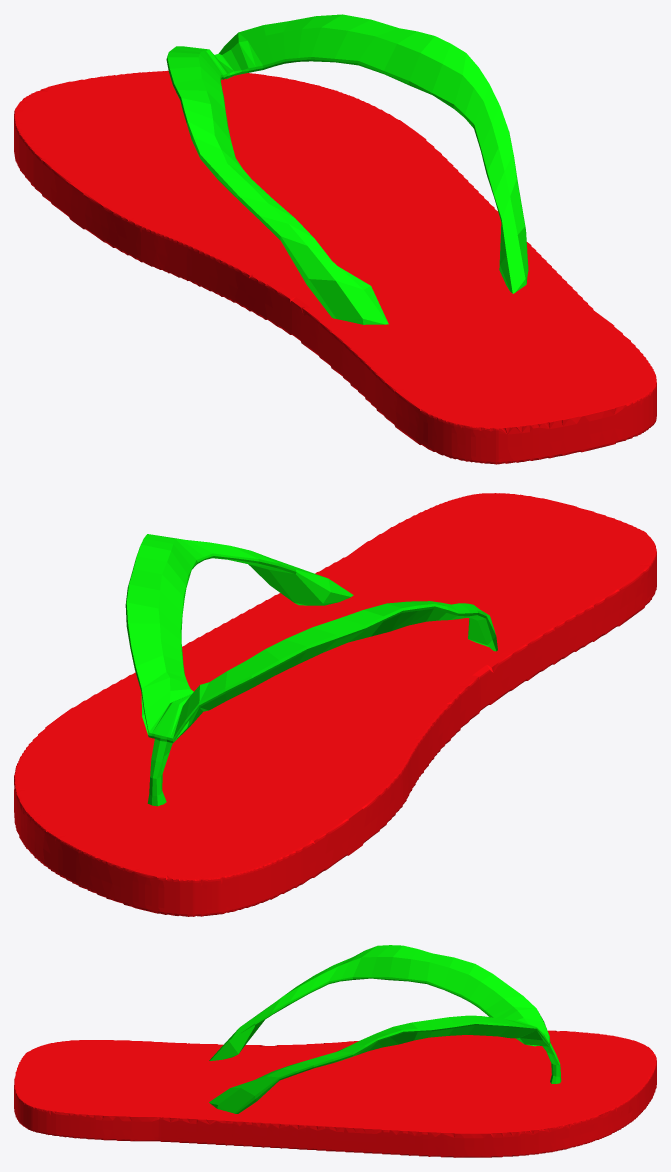
File: flipflop.obj
3 renders of one model, top to bottom at view 1: azimuth 30°, elevation 25°; view 2: azimuth 150°, elevation 25°; view 3: azimuth 270°, elevation 25°, orthographic. The views are drawn at different scales.
Parts seen in each view (by area): view 1: Sohle, Riemen; view 2: Sohle, Riemen; view 3: Sohle, Riemen.
Boxes of the visible parts, <box> form: Sohle: <box>14,70,656,464</box>; Riemen: <box>166,14,528,324</box>; Sohle: <box>14,493,656,916</box>; Riemen: <box>125,534,497,806</box>; Sohle: <box>14,1030,656,1157</box>; Riemen: <box>209,945,561,1113</box>.
Bounding box in the file's own units: 4.15 × 2.2 × 10.81.
